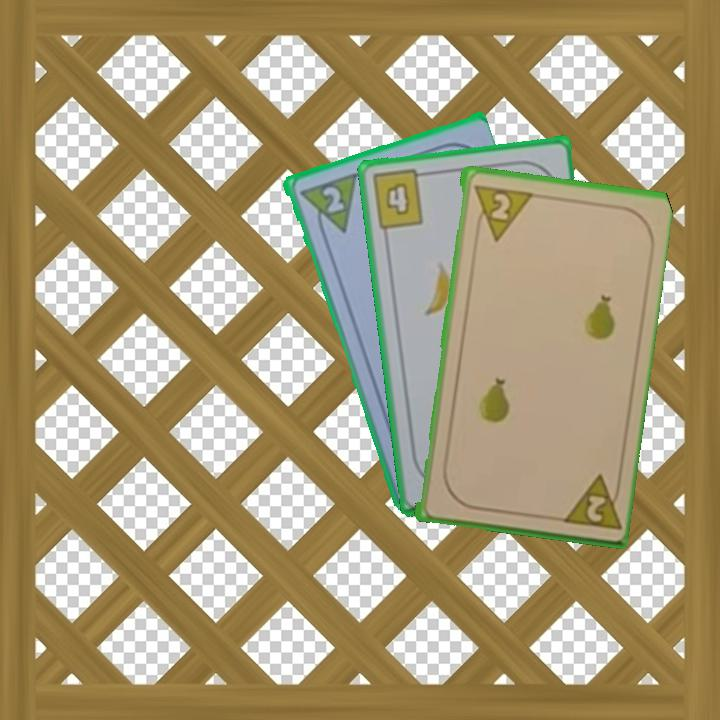2p: (555, 470, 624, 532), (469, 180, 533, 243), (318, 182, 347, 216)
4b: (368, 166, 432, 232)
